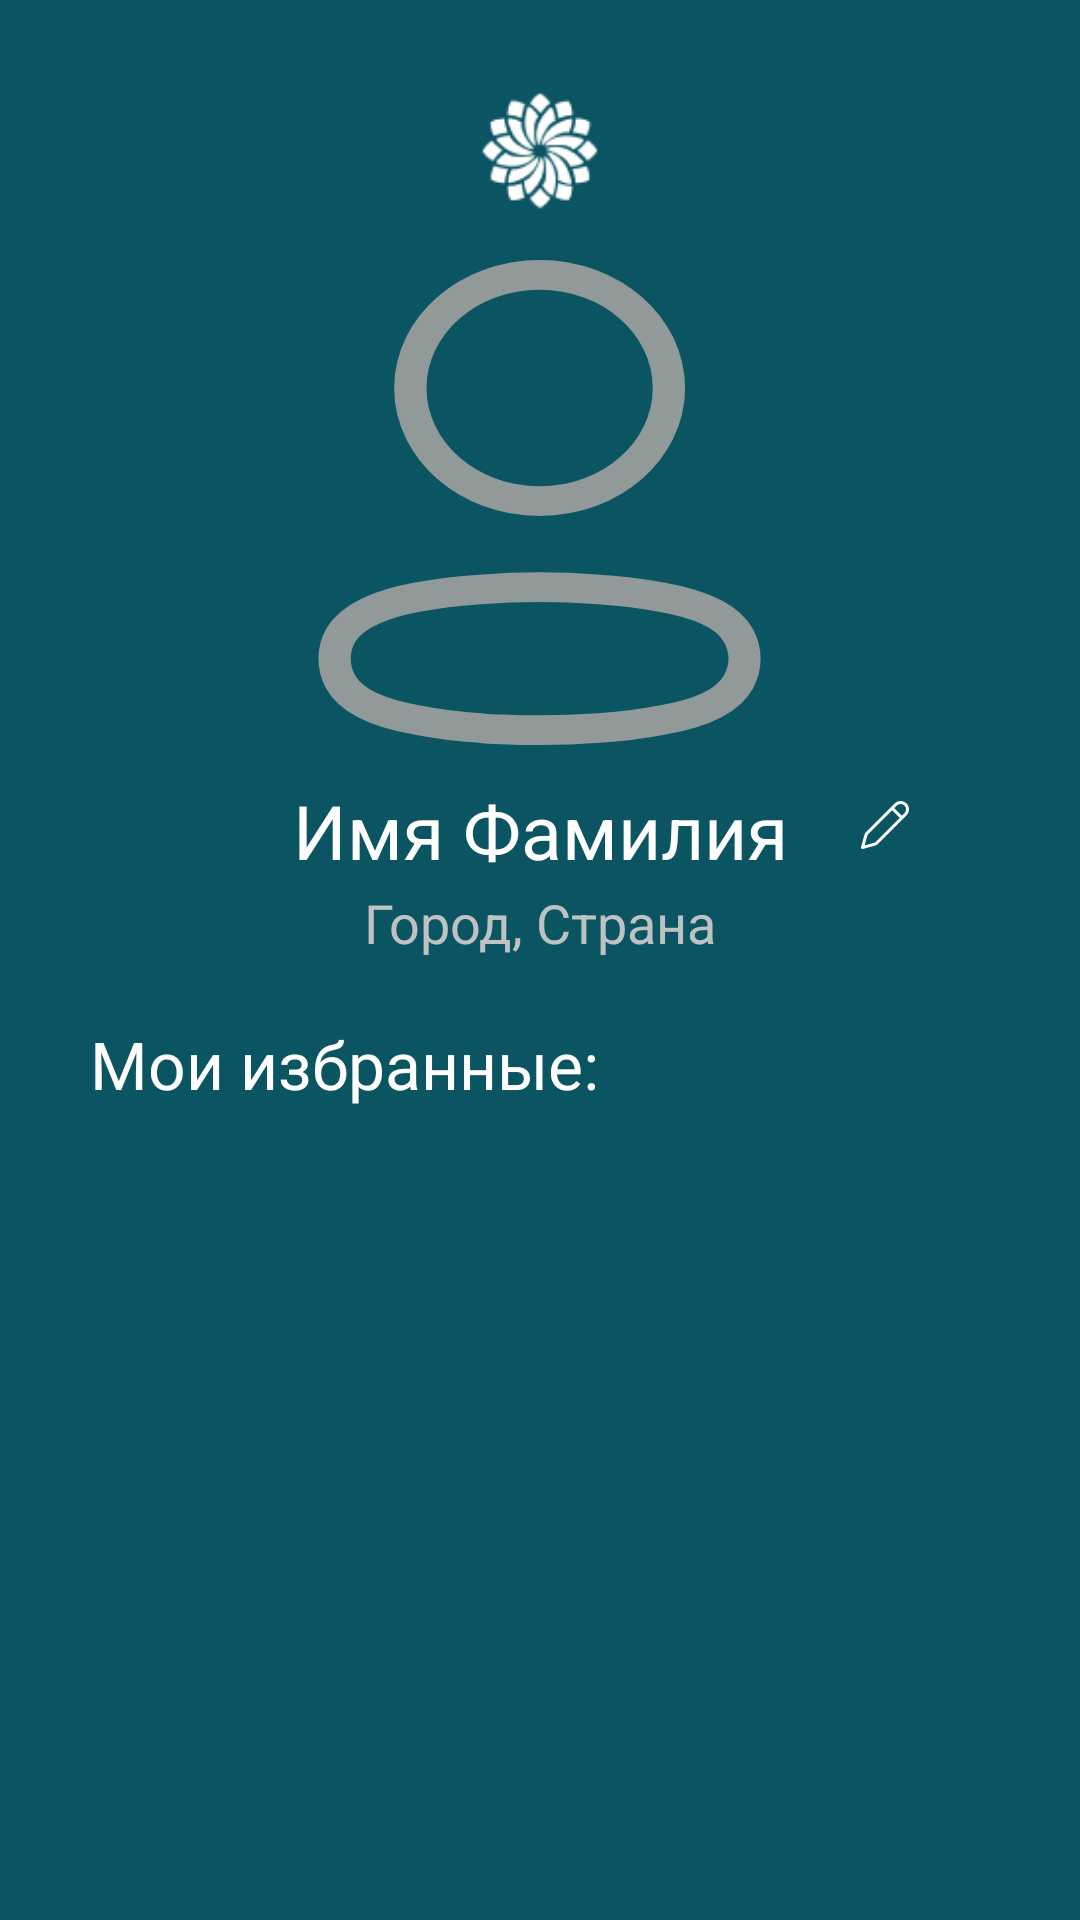

Screen size 1080x1920. Icon name, then its center in pixels as [x,y]:
profile edit: [885,825]
